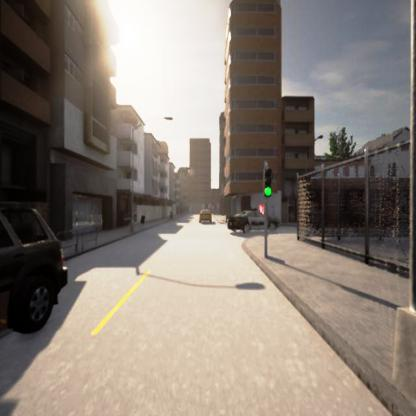vehicle: (0, 203, 70, 332), (228, 210, 278, 234), (199, 209, 213, 223)
